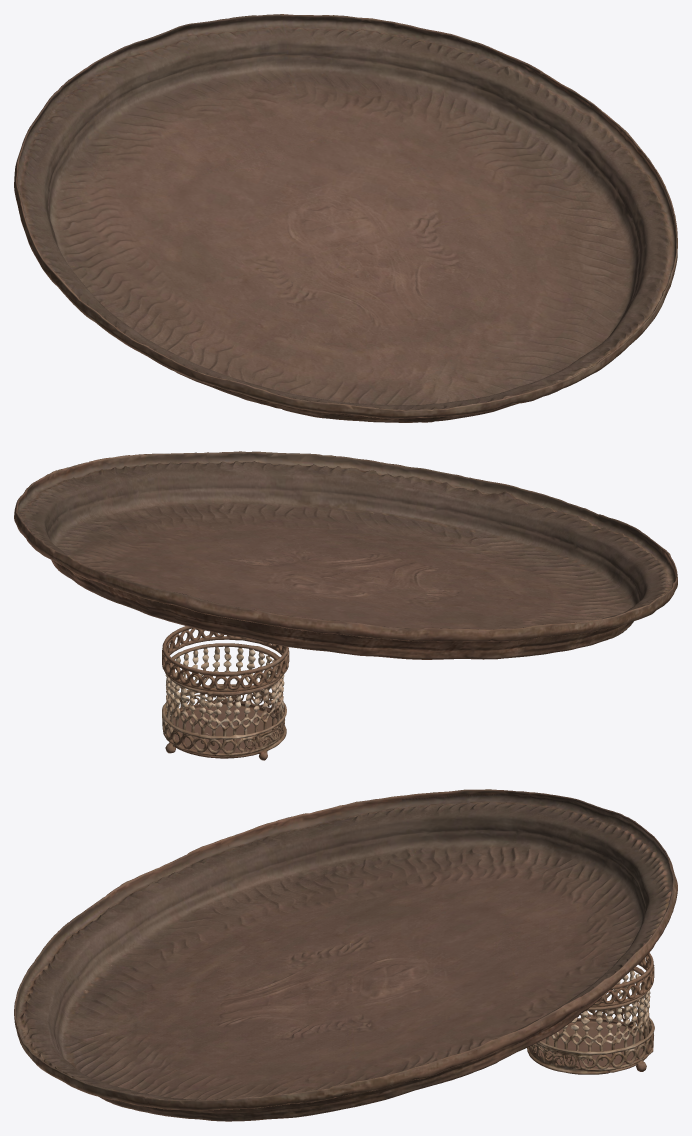
Rendered from tabla.glb.
The picture shows the model from 3 angles, top to bottom: view 1: azimuth 30°, elevation 25°; view 2: azimuth 150°, elevation 25°; view 3: azimuth 270°, elevation 25°; orthographic projection.
Size of the model in its own units: 1.9 by 0.5608 by 1.89.
1 material, 1 textured.
